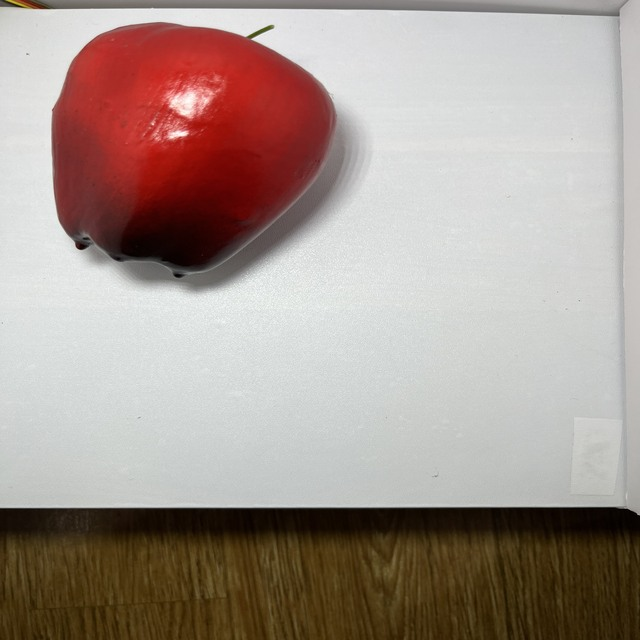Tao: (47, 16, 346, 278)
